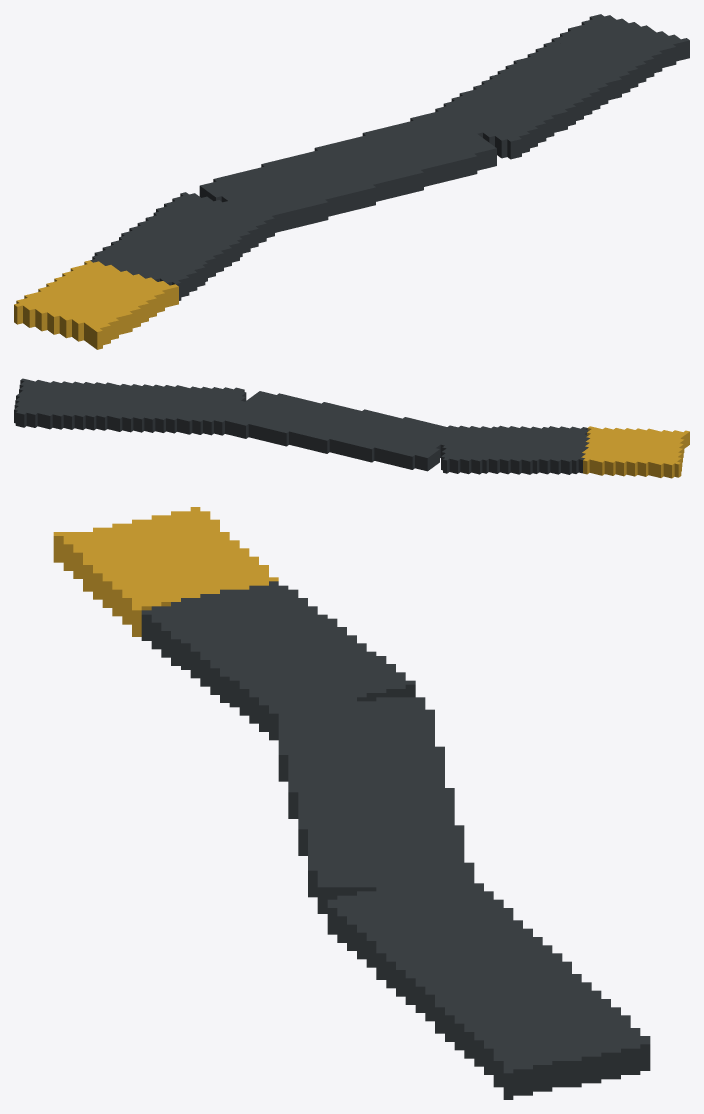
File: crashed_military_helicopter_snapped_blade.glb
The picture shows the model from 3 angles, top to bottom: view 1: azimuth 30°, elevation 25°; view 2: azimuth 150°, elevation 25°; view 3: azimuth 270°, elevation 25°; orthographic projection. The views are drawn at different scales.
Visible parts, largest first — view 1: body:compound; view 2: body:compound; view 3: body:compound.
Boxes of the visible parts, x1,y1,x2,y2 form: body:compound: (14, 14, 689, 349); body:compound: (14, 378, 689, 478); body:compound: (53, 507, 650, 1099).
Size of the model in its own units: 4.28 by 0.0938 by 1.91.
